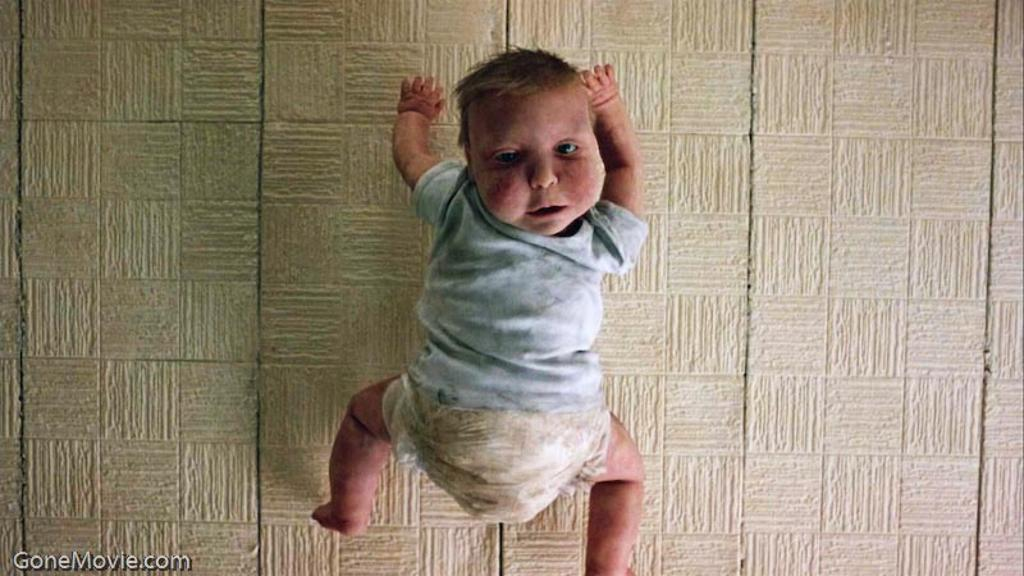face: (468, 84, 606, 230)
